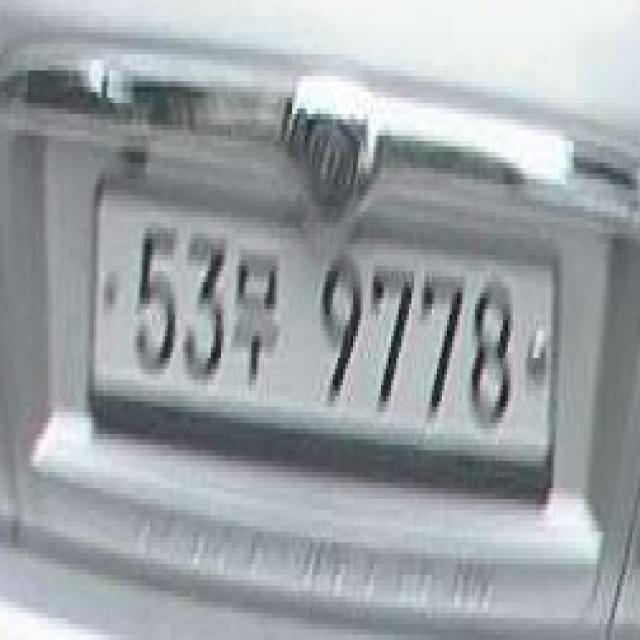3: (178, 217, 234, 396)
5: (127, 206, 180, 385)
7: (366, 239, 424, 434), (411, 271, 470, 429)
8: (460, 287, 536, 445)
9: (315, 260, 373, 418)
license_plate: (84, 179, 564, 515)
mu: (228, 238, 290, 379)
